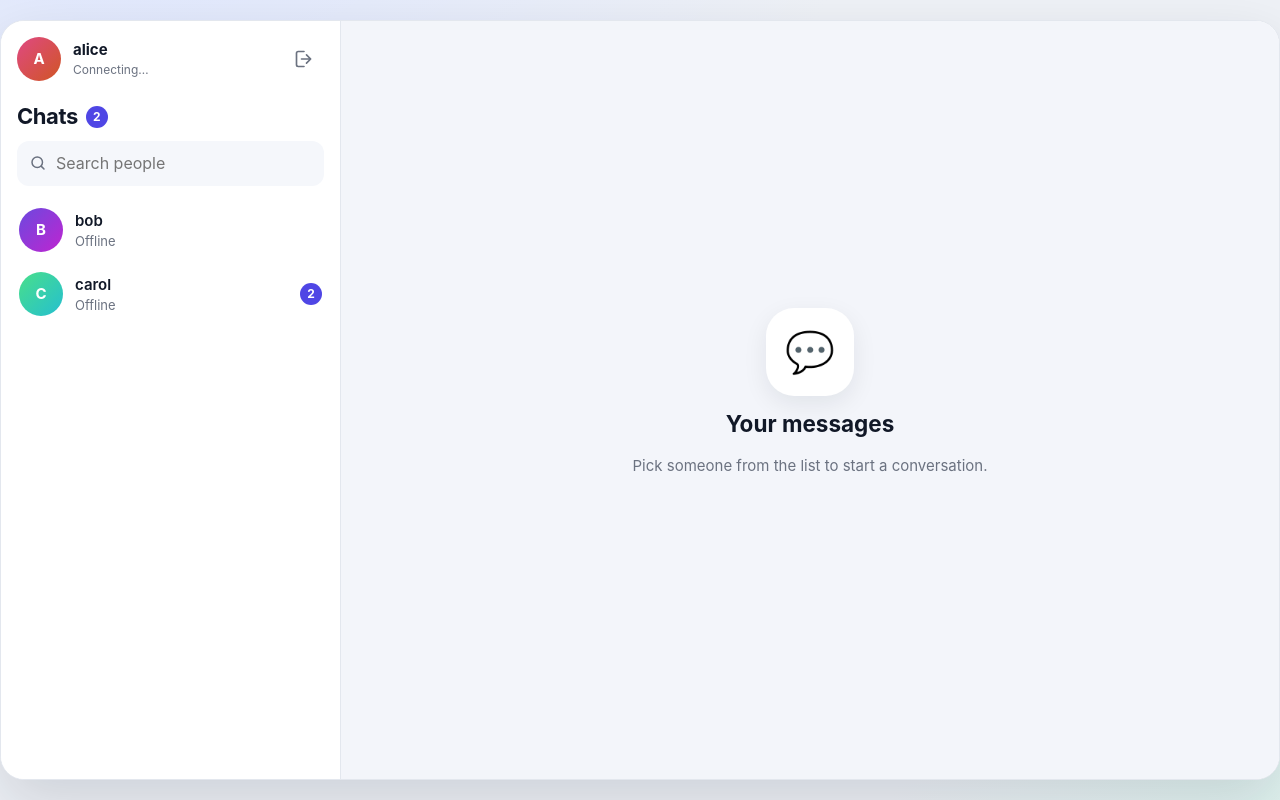
opening a chat loads it and sending never includes a sender
Click the button "B bob Offline".
click(41, 230)  # box [9,198,332,262]
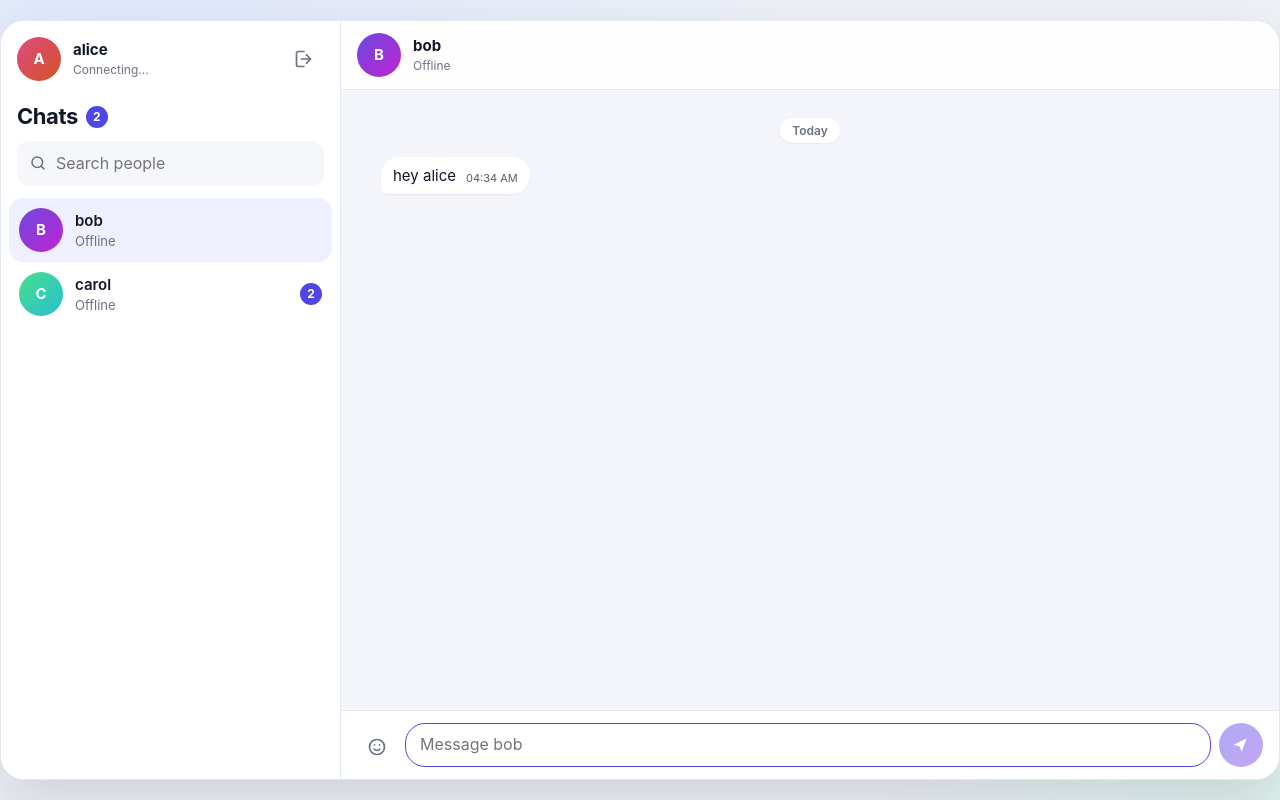
Check: the text "hey alice" is shown, box [393,165,456,186]
Type "hello bob" into the text box labelled "Message".
click(808, 745); type("hello bob")  # box [405,723,1211,767]
Then press Enter
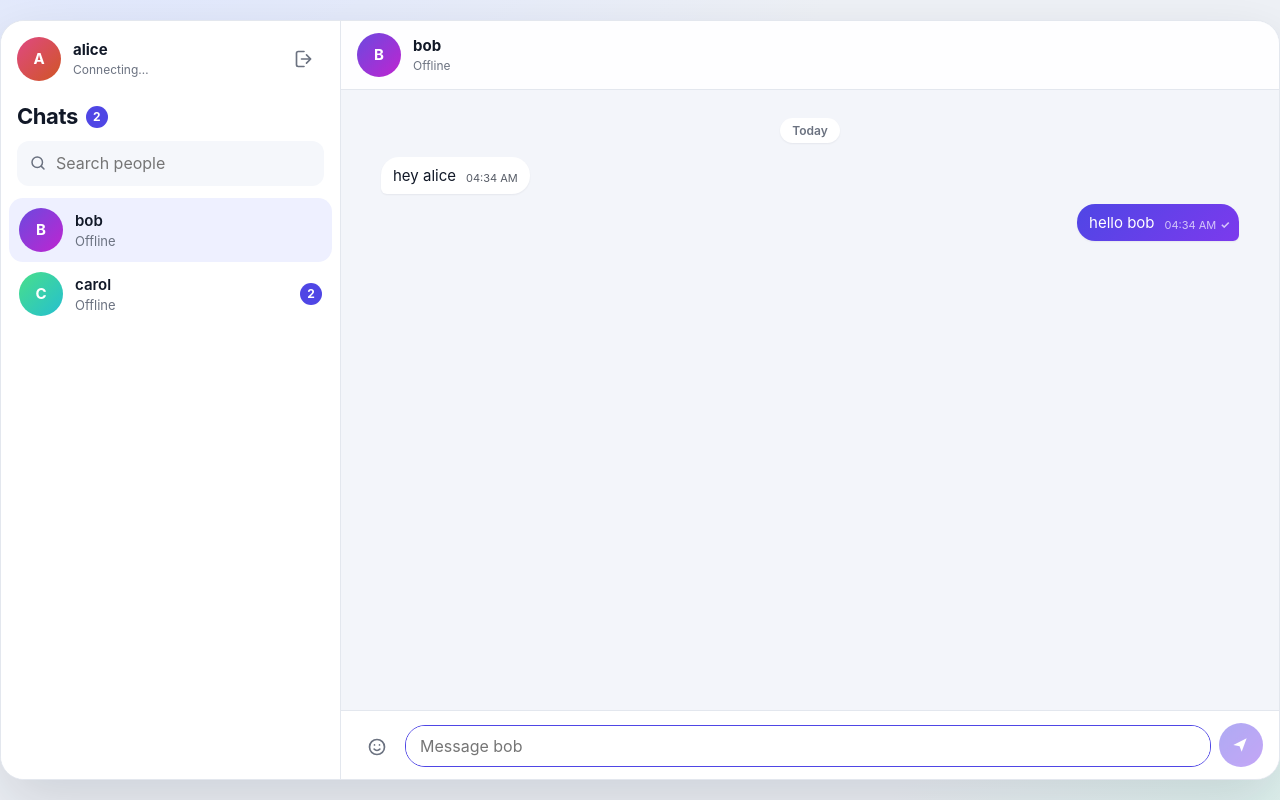
Check: the text "hello bob" is shown, box [1089,212,1155,233]
Check: the text named "Sent" is shown, box [1220,218,1227,233]
